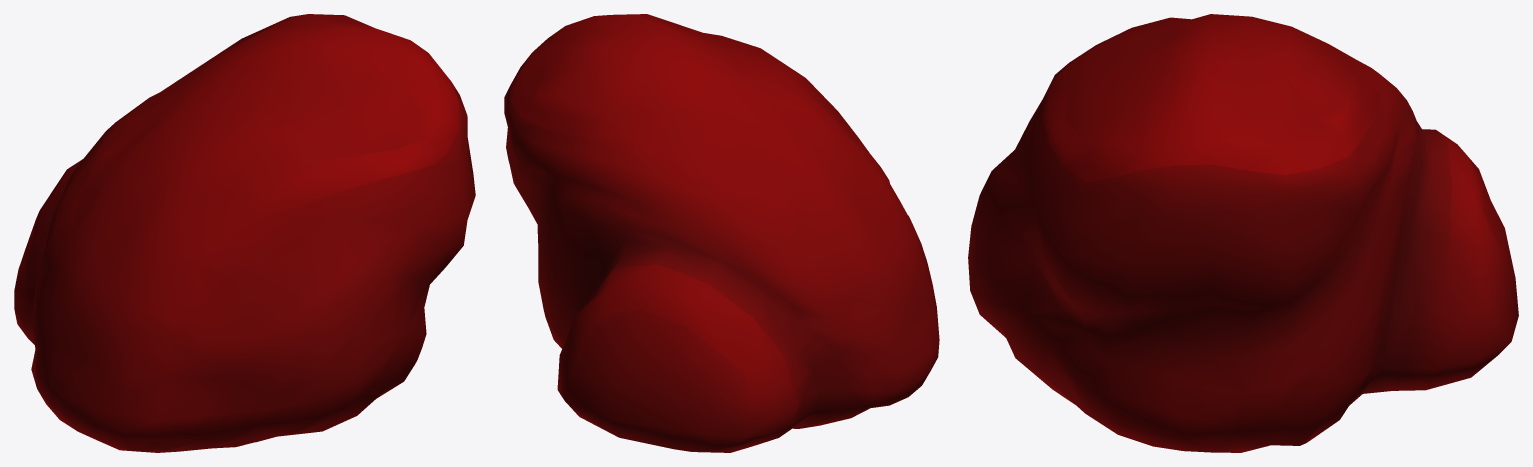
The model's file is geology-rocks-rocklarge_v9.fbx.
The picture shows the model from 3 angles, left to right: view 1: azimuth 30°, elevation 25°; view 2: azimuth 150°, elevation 25°; view 3: azimuth 270°, elevation 25°; orthographic projection. The views are drawn at different scales.
Parts seen in each view (by area): view 1: RockLarge_v9; view 2: RockLarge_v9; view 3: RockLarge_v9.
Boxes of the visible parts, left/top/right/bottom form: RockLarge_v9: left=14, top=14, right=475, bottom=452; RockLarge_v9: left=504, top=14, right=939, bottom=452; RockLarge_v9: left=968, top=14, right=1518, bottom=452.
Bounding box in the file's own units: 9.71 × 8.28 × 9.85.
